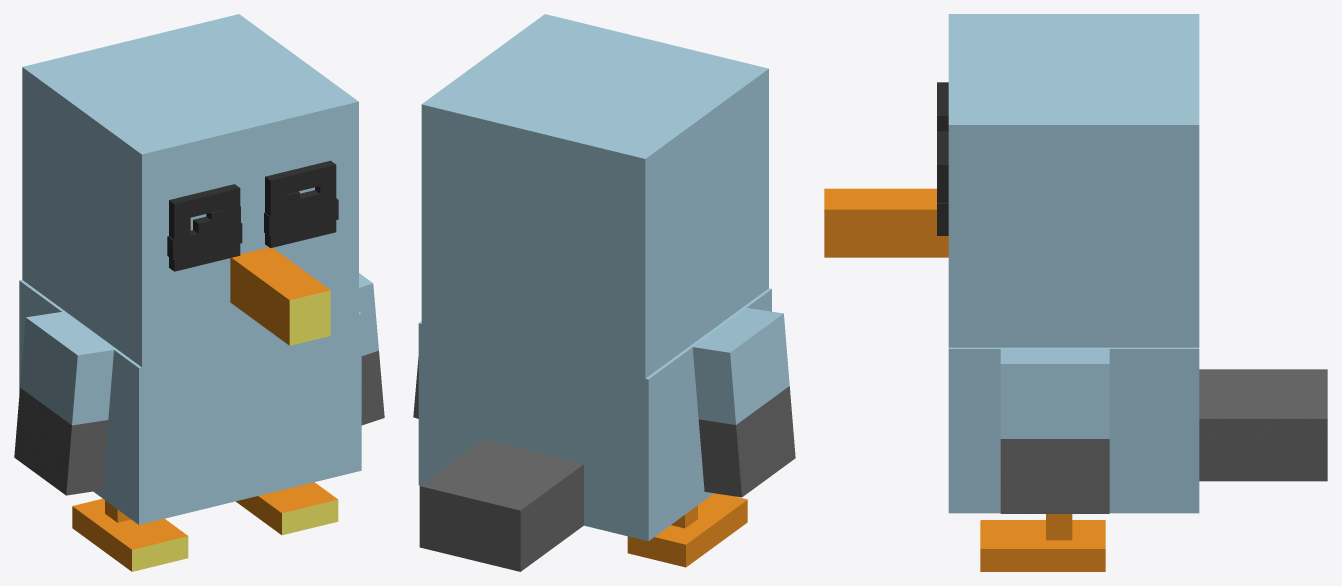
The picture shows the model from 3 angles, left to right: view 1: azimuth 30°, elevation 25°; view 2: azimuth 150°, elevation 25°; view 3: azimuth 270°, elevation 25°; orthographic projection. The views are drawn at different scales.
Visible parts, largest first — view 1: Ch_17_Head, Ch_17, Ch_17_Wing_L, Ch_17_Leg_L, Ch_17_Leg_R, Ch_17_Eye_03_R, Ch_17_Eye_03_L, Ch_17_Wing_R, Ch_17_Eye_02, Ch_17_Eye_01; view 2: Ch_17_Head, Ch_17, Ch_17_Wing_L, Ch_17_Leg_L; view 3: Ch_17_Head, Ch_17, Ch_17_Wing_R, Ch_17_Leg_R, Ch_17_Eye_03_R.
Part boxes in pixels (box(x1,y1,x2,y2)): Ch_17_Head: box(22, 14, 358, 367); Ch_17: box(19, 280, 361, 524); Ch_17_Wing_L: box(14, 312, 113, 495); Ch_17_Leg_L: box(72, 498, 188, 571); Ch_17_Leg_R: box(236, 482, 338, 535); Ch_17_Eye_03_R: box(265, 160, 336, 248); Ch_17_Eye_03_L: box(169, 184, 240, 271); Ch_17_Wing_R: box(359, 273, 384, 425); Ch_17_Eye_02: box(167, 198, 338, 259); Ch_17_Eye_01: box(206, 191, 299, 243); Ch_17_Head: box(421, 14, 768, 378); Ch_17: box(418, 288, 771, 571); Ch_17_Wing_L: box(692, 308, 795, 497); Ch_17_Leg_L: box(627, 493, 747, 567); Ch_17_Head: box(824, 14, 1199, 347); Ch_17: box(948, 347, 1327, 513); Ch_17_Wing_R: box(1000, 349, 1109, 513); Ch_17_Leg_R: box(980, 514, 1105, 571); Ch_17_Eye_03_R: box(937, 131, 948, 235).
Size of the model in its own units: 8.09 by 10.43 by 10.58.
